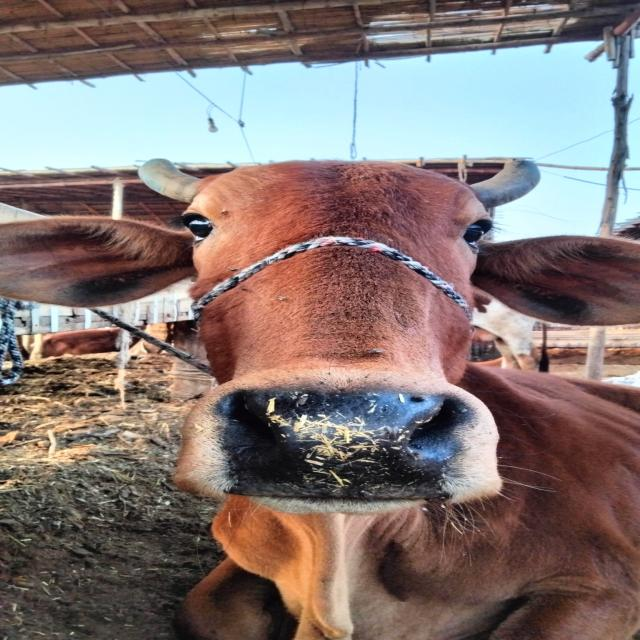muzzles: (215, 376, 479, 503)
